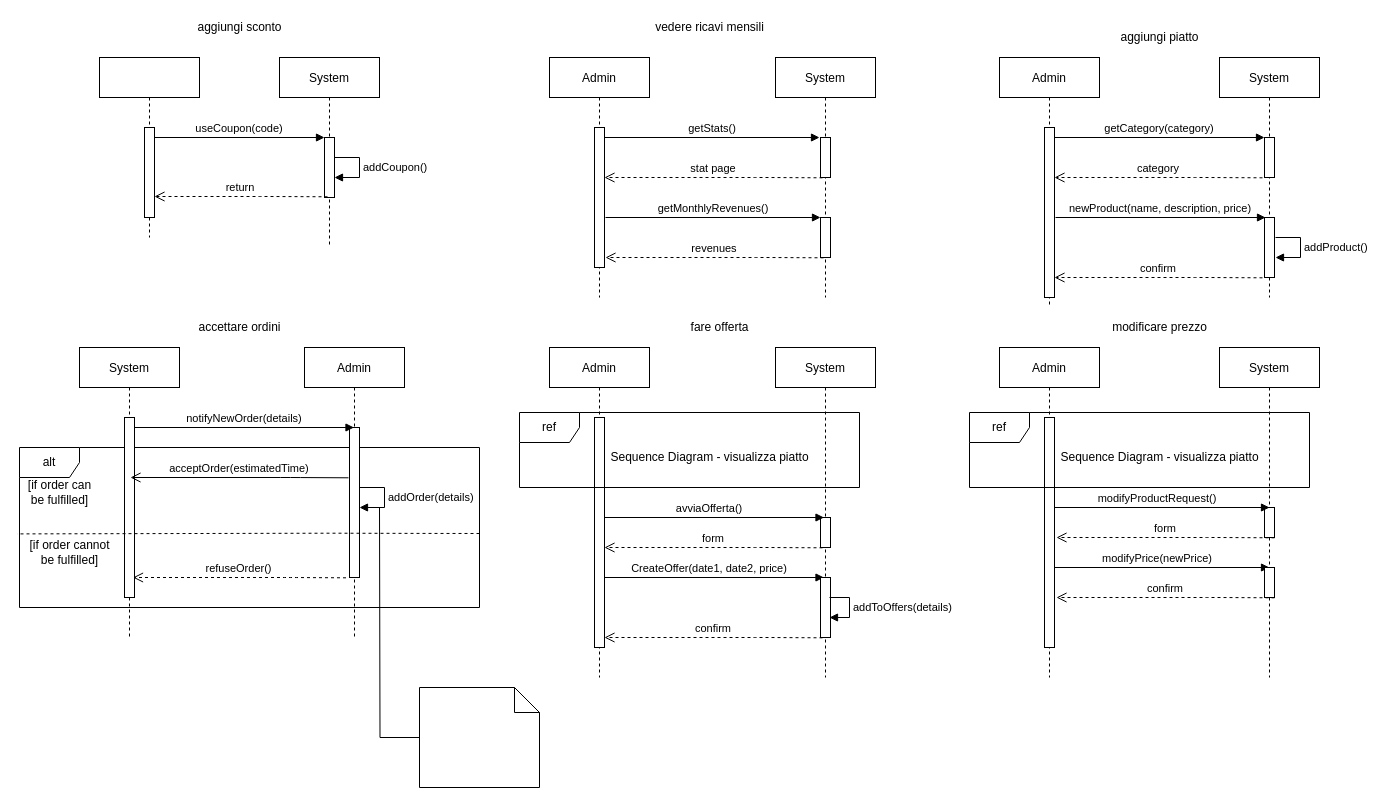
Some shapes in this 1386 by 805 pixel diagram are drawn without their labels. Here are the shapes that lost their labels. From the top down, the centre of each, then its label:
(149,147): Customer
(479,737): the system must add the new accepted order to the list of orders
